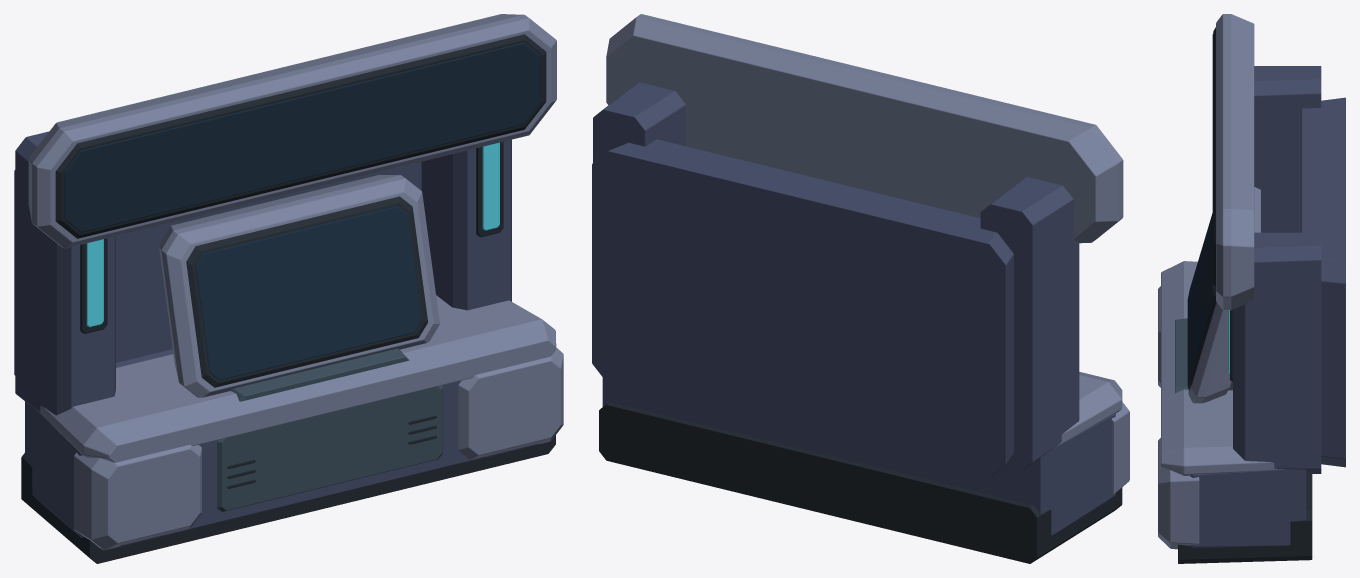
File: station_kiosk.glb
3 renders of one model, left to right at view 1: azimuth 30°, elevation 25°; view 2: azimuth 150°, elevation 25°; view 3: azimuth 270°, elevation 25°, orthographic. The views are drawn at different scales.
Visible parts, largest first — view 1: Chassis, LightGuides; view 2: Chassis; view 3: Chassis.
Boxes of the visible parts, box(x1,y1,x2,y2) form: Chassis: box(14, 14, 563, 563); LightGuides: box(86, 142, 499, 327); Chassis: box(592, 14, 1129, 563); Chassis: box(1158, 14, 1345, 563).
Size of the model in its own units: 3.39 by 2.59 by 1.23.
